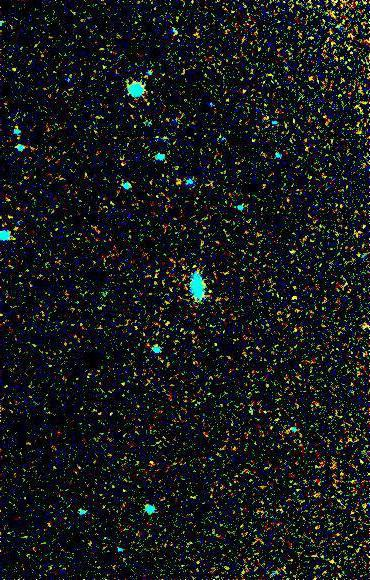star: (164, 168, 194, 198)
